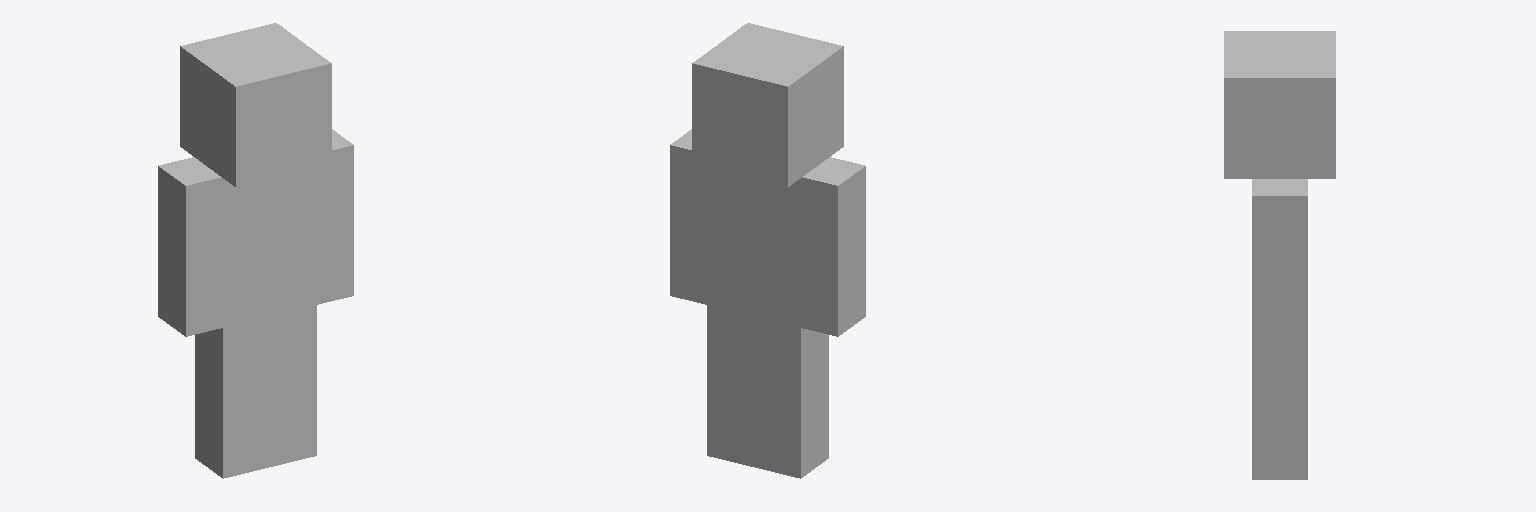
File: alex_skin.obj
3 views of the same model, side by side, from view 1: azimuth 30°, elevation 25°; view 2: azimuth 150°, elevation 25°; view 3: azimuth 270°, elevation 25° (orthographic).
Parts seen in each view (by area): view 1: Head, Body, Left Leg, Left Arm, Right Leg, Right Arm; view 2: Head, Body, Left Leg, Left Arm, Right Leg, Right Arm; view 3: Head, Right Arm, Right Leg.
Boxes of the visible parts, x1=… form: Head: x1=180, y1=23, x2=331, y2=186; Body: x1=222, y1=167, x2=317, y2=327; Left Leg: x1=195, y1=316, x2=270, y2=478; Left Arm: x1=158, y1=157, x2=221, y2=336; Right Leg: x1=269, y1=305, x2=316, y2=466; Right Arm: x1=318, y1=129, x2=353, y2=304; Head: x1=692, y1=23, x2=843, y2=186; Body: x1=706, y1=167, x2=801, y2=327; Left Leg: x1=753, y1=317, x2=828, y2=478; Left Arm: x1=802, y1=157, x2=865, y2=336; Right Leg: x1=707, y1=305, x2=754, y2=466; Right Arm: x1=670, y1=129, x2=705, y2=304; Head: x1=1224, y1=31, x2=1335, y2=178; Right Arm: x1=1252, y1=179, x2=1307, y2=346; Right Leg: x1=1252, y1=347, x2=1307, y2=479.
Bounding box in the file's own units: 0.875 × 2 × 0.5.